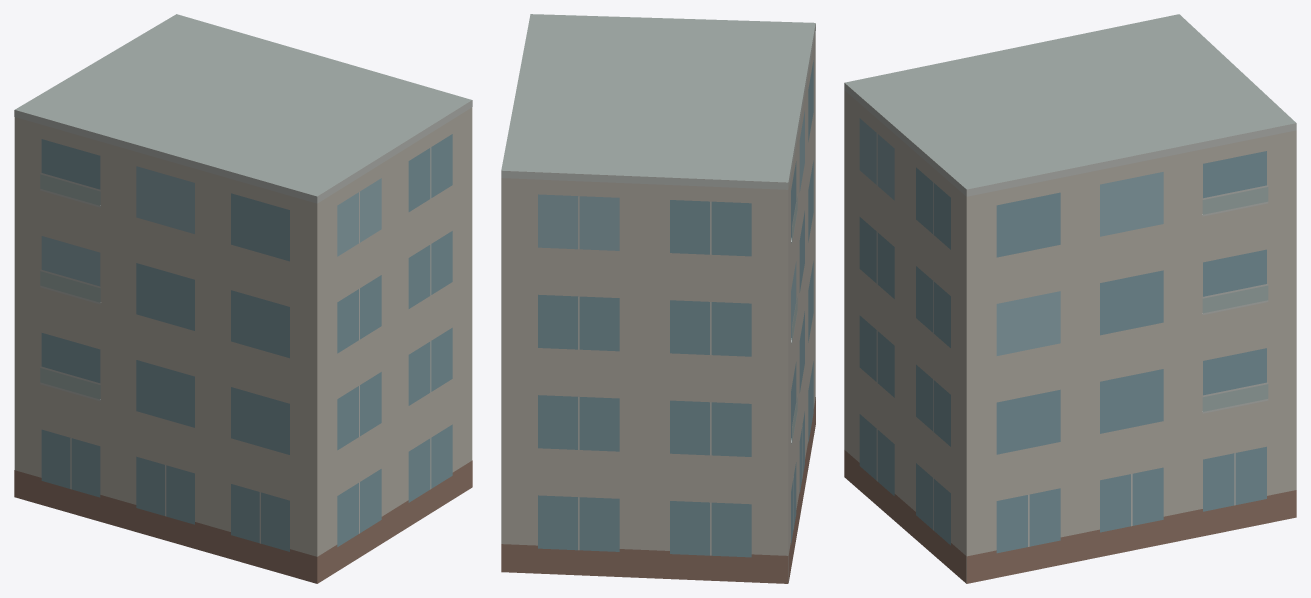
File: survey-upis-32958260.glb
3 renders of one model, left to right at view 1: azimuth 30°, elevation 25°; view 2: azimuth 150°, elevation 25°; view 3: azimuth 270°, elevation 25°, orthographic. The views are drawn at different scales.
Visible parts, largest first — view 1: survey-upis-32958260.tmp; view 2: survey-upis-32958260.tmp; view 3: survey-upis-32958260.tmp.
Part boxes in pixels (left/top/right/bottom): survey-upis-32958260.tmp: left=14, top=14, right=472, bottom=583; survey-upis-32958260.tmp: left=501, top=14, right=815, bottom=583; survey-upis-32958260.tmp: left=844, top=14, right=1296, bottom=583.
Bounding box in the file's own units: 12.71 × 13.3 × 13.84.
